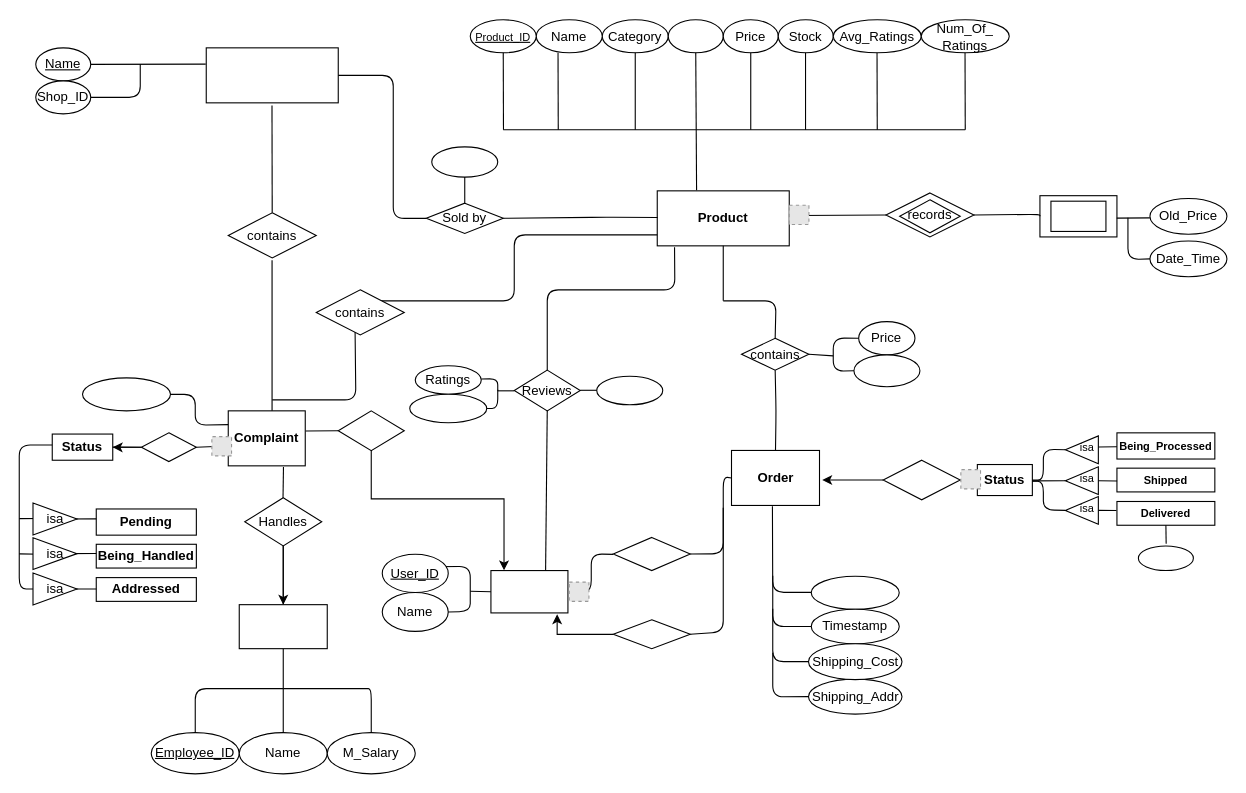
The diagram is 1246 pixels wide and 793 high, and some of its shapes have lost their labels. Grey dashed boxes stand in for pictures. The shapes that lost their labels are listed below. From the top down, each one's box as (x1, y1, x2, y2) in pixels, then its label:
(667, 19, 723, 53): Maker
(205, 47, 338, 103): Shop
(431, 146, 498, 177): Prices
(1039, 195, 1117, 237): History
(596, 375, 663, 405): Modified
(853, 354, 920, 387): Quantity
(81, 377, 170, 411): Complaint_ID
(409, 393, 487, 423): Comments
(140, 432, 196, 462): has
(337, 410, 404, 451): Files
(882, 459, 960, 500): tracks
(612, 536, 690, 571): Places
(1137, 545, 1193, 571): Date
(490, 569, 568, 613): User
(810, 575, 899, 609): Order_ID
(238, 604, 327, 649): Employee
(612, 619, 690, 649): Refunds
